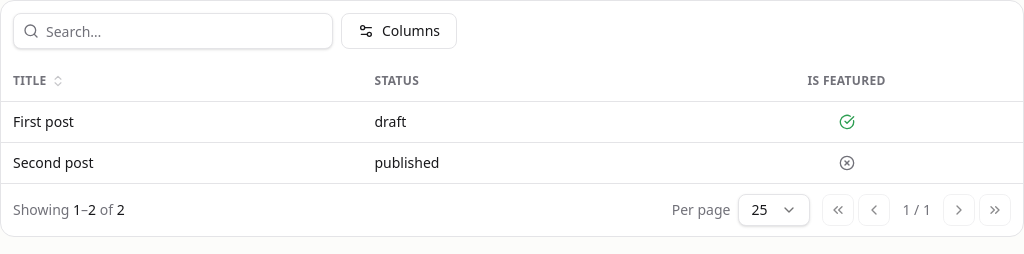
it: column visibility › offers a toggle only for toggleable columns
Expected: the text "First post" is shown, [13,112,74,132]
Click the button "Columns" at (399, 31), box [341,13,457,49]
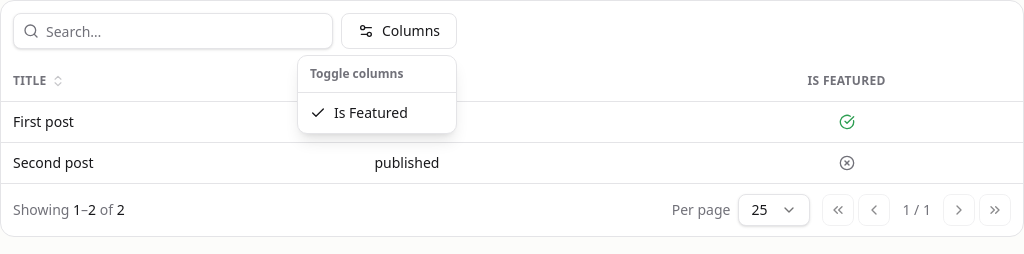
Expected: the menu item "Is Featured" is shown, [310,103,408,122]
